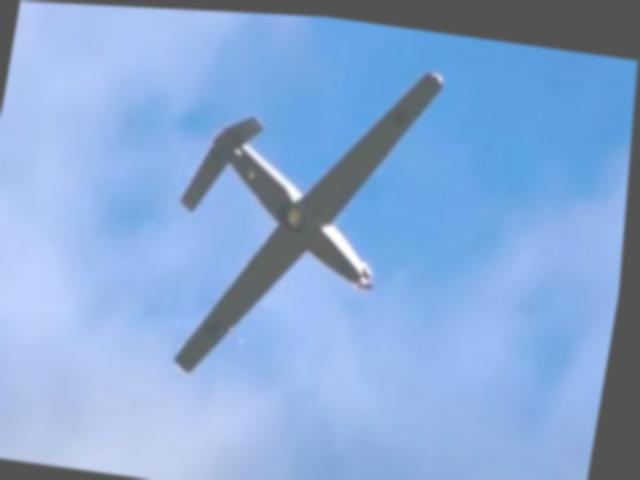iha: (153, 29, 454, 401)
